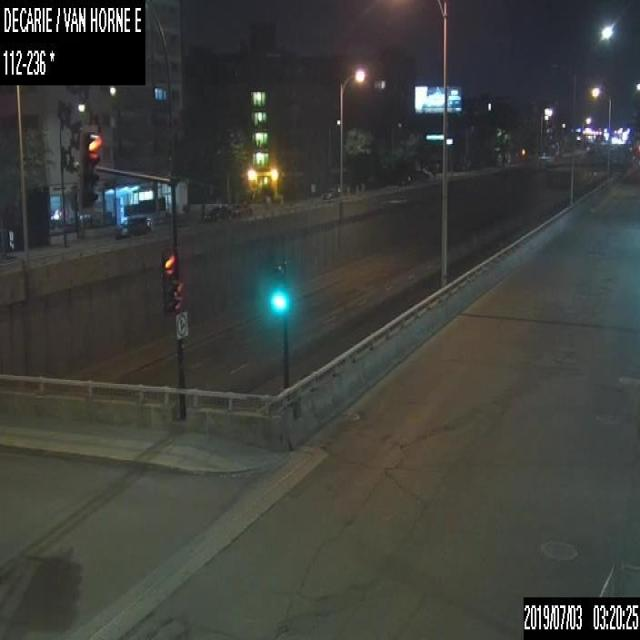vehicle: (114, 215, 152, 237), (202, 203, 231, 219), (231, 202, 252, 216)
